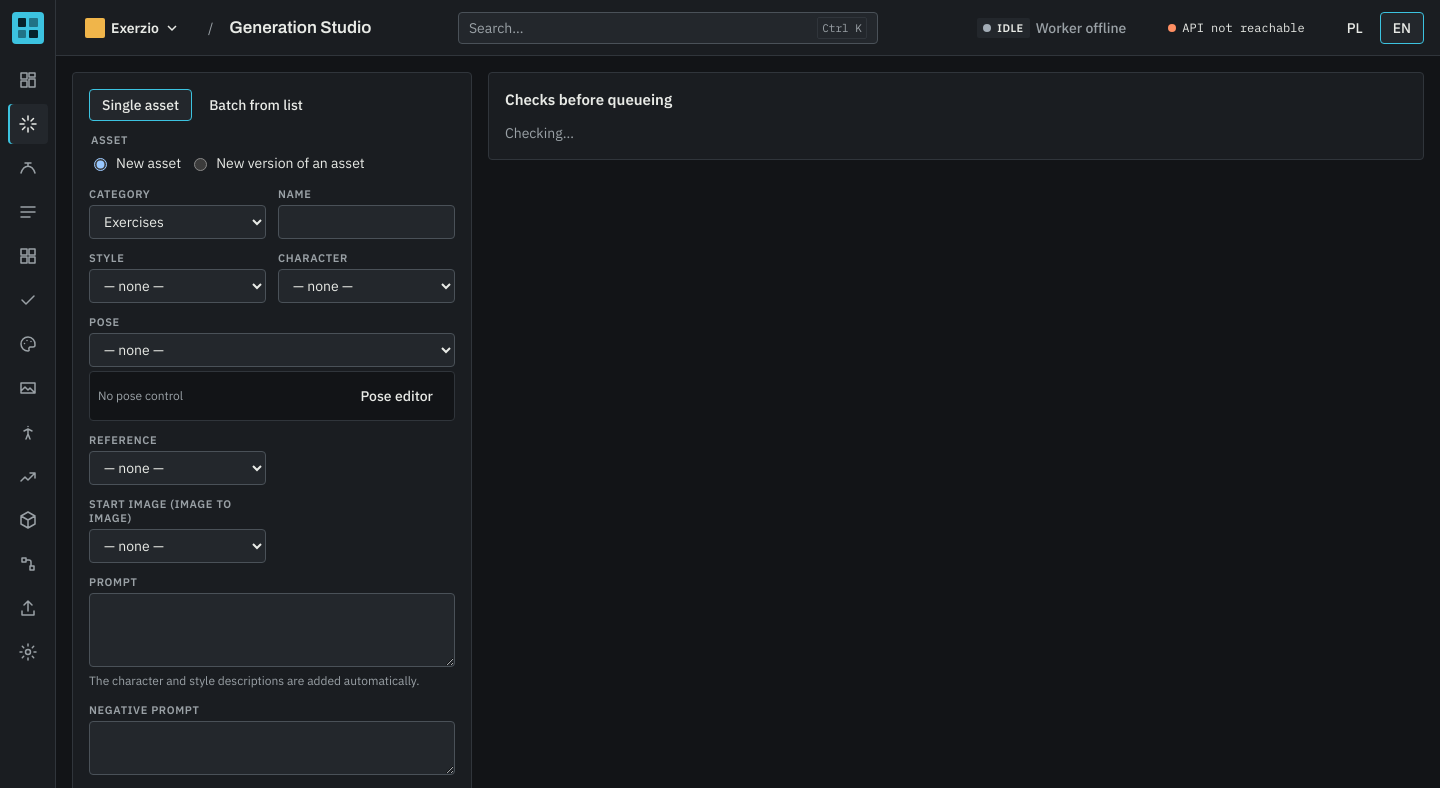
Generation Studio › regenerates a version as the next version with a new seed (FR-052)
The width and height of the screenshot is (1440, 788).
Click the radio button labelled "New version of an asset": {"x": 201, "y": 164} [194,158,207,171]
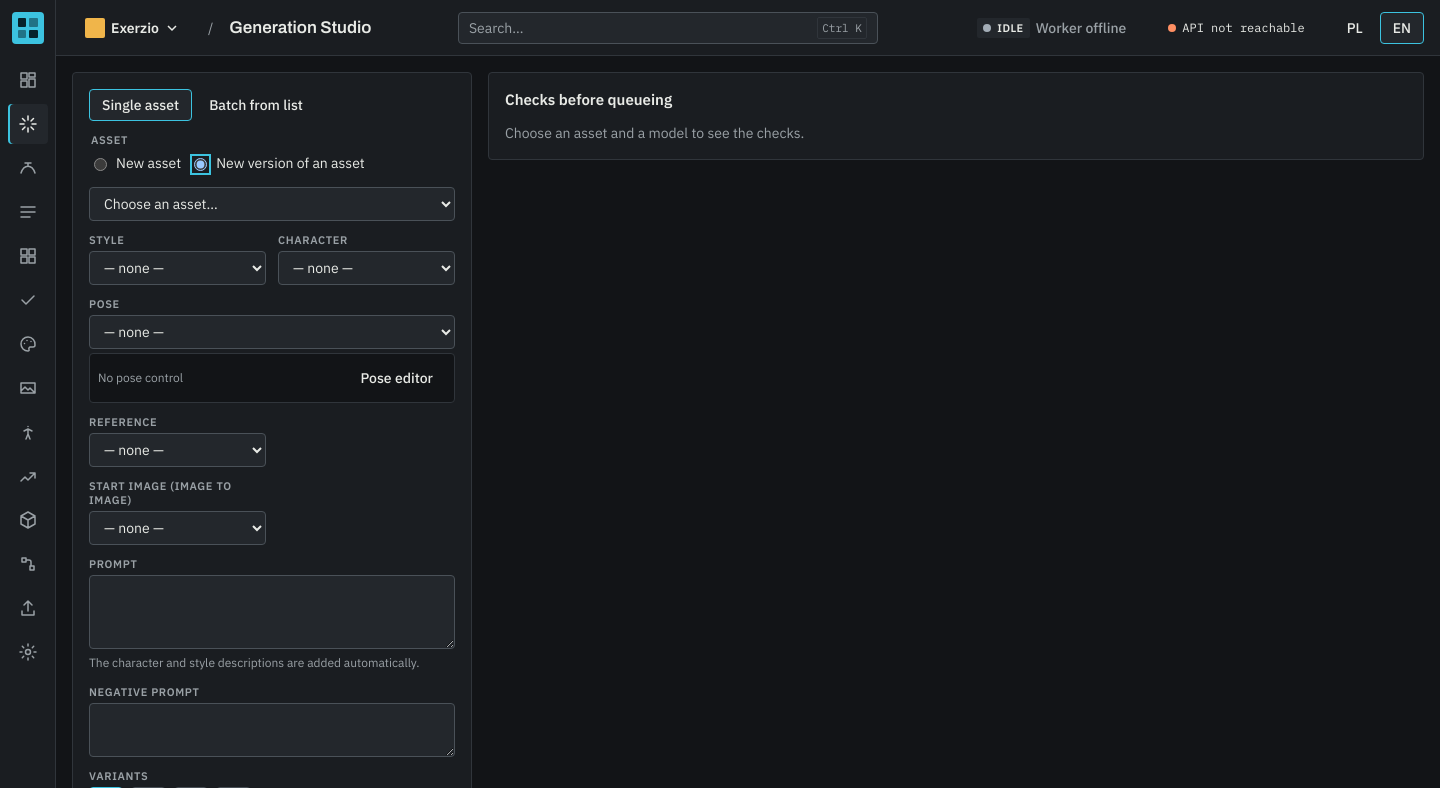
Select "Squat · exercises" in the dropdown named "Asset": {"x": 272, "y": 204} [89,187,455,221]
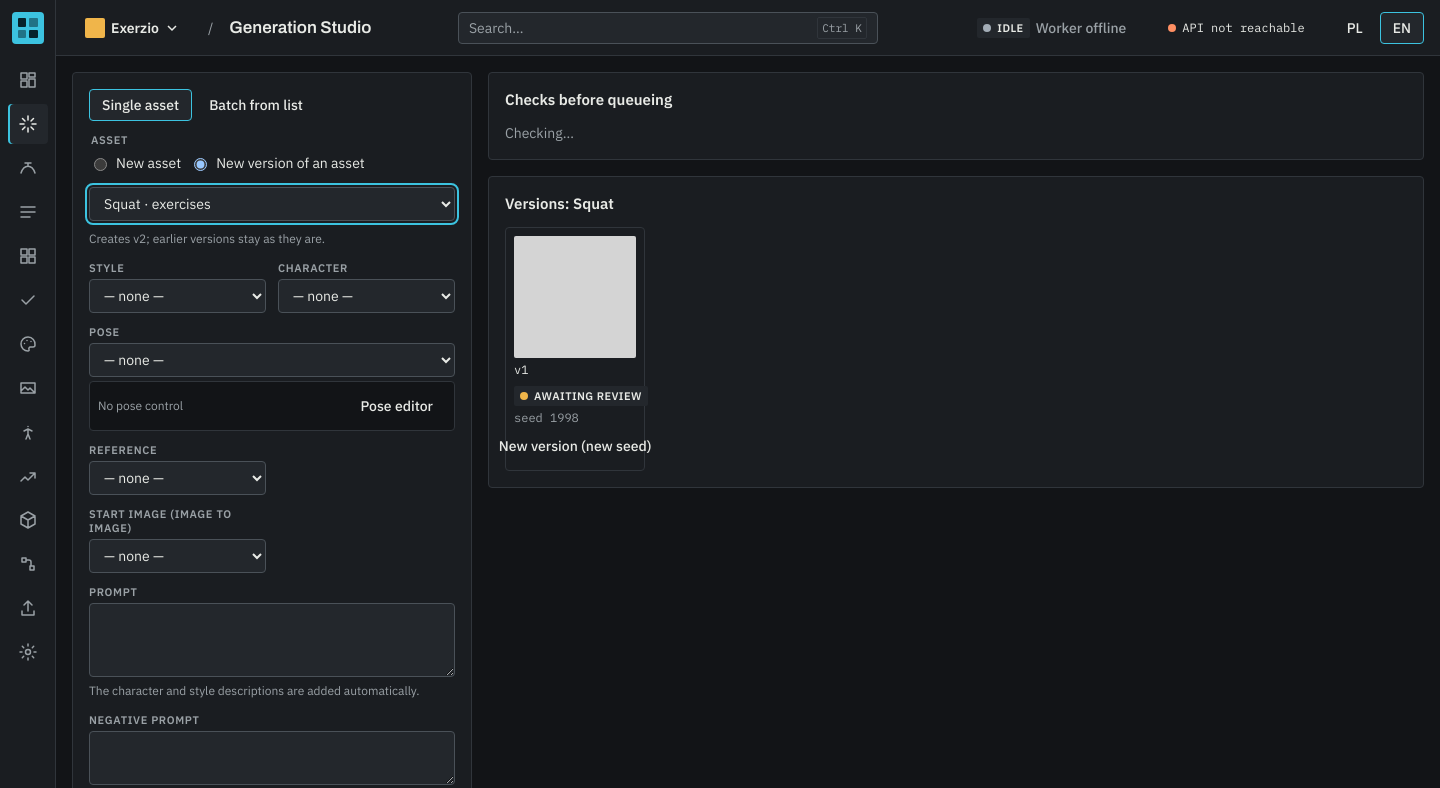
Expected: the text "Creates v2; earlier versions stay as they are." is shown, [89,231,325,246]
Expected: the text "seed 1998" is shown, [514,410,579,425]
Click the button "New version (new seed)": {"x": 575, "y": 446} [514,430,636,462]
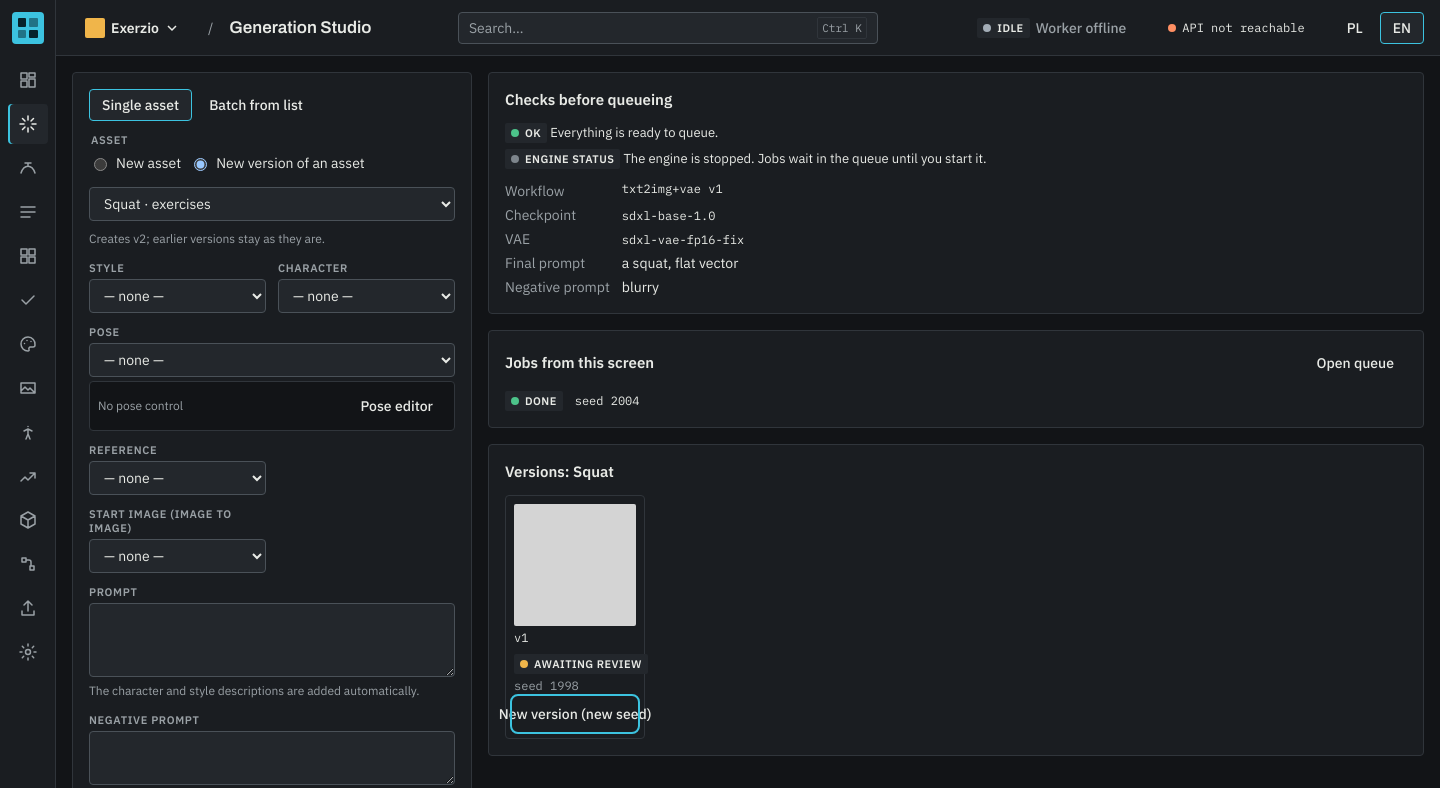
Expected: the text "Done" is shown, [505,391,563,411]
